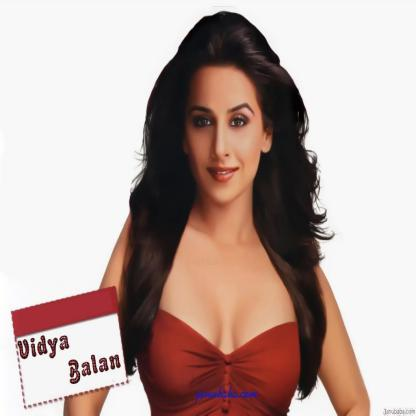long-hair: (113, 206, 338, 266)
